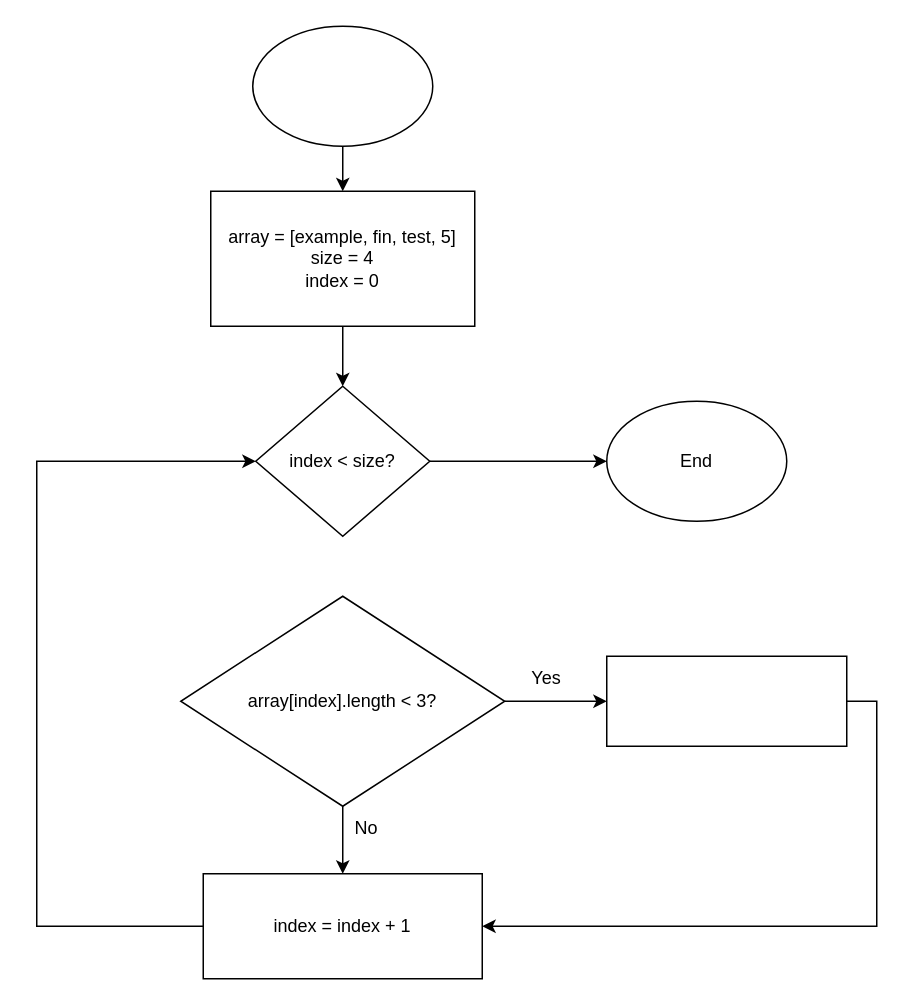
This 915x1005 diagram has some shape labels left out. Here are the shapes that lost their labels. From the top down, the centre of each, then its label:
[342,85]: Start
[726,700]: print(array[index]
